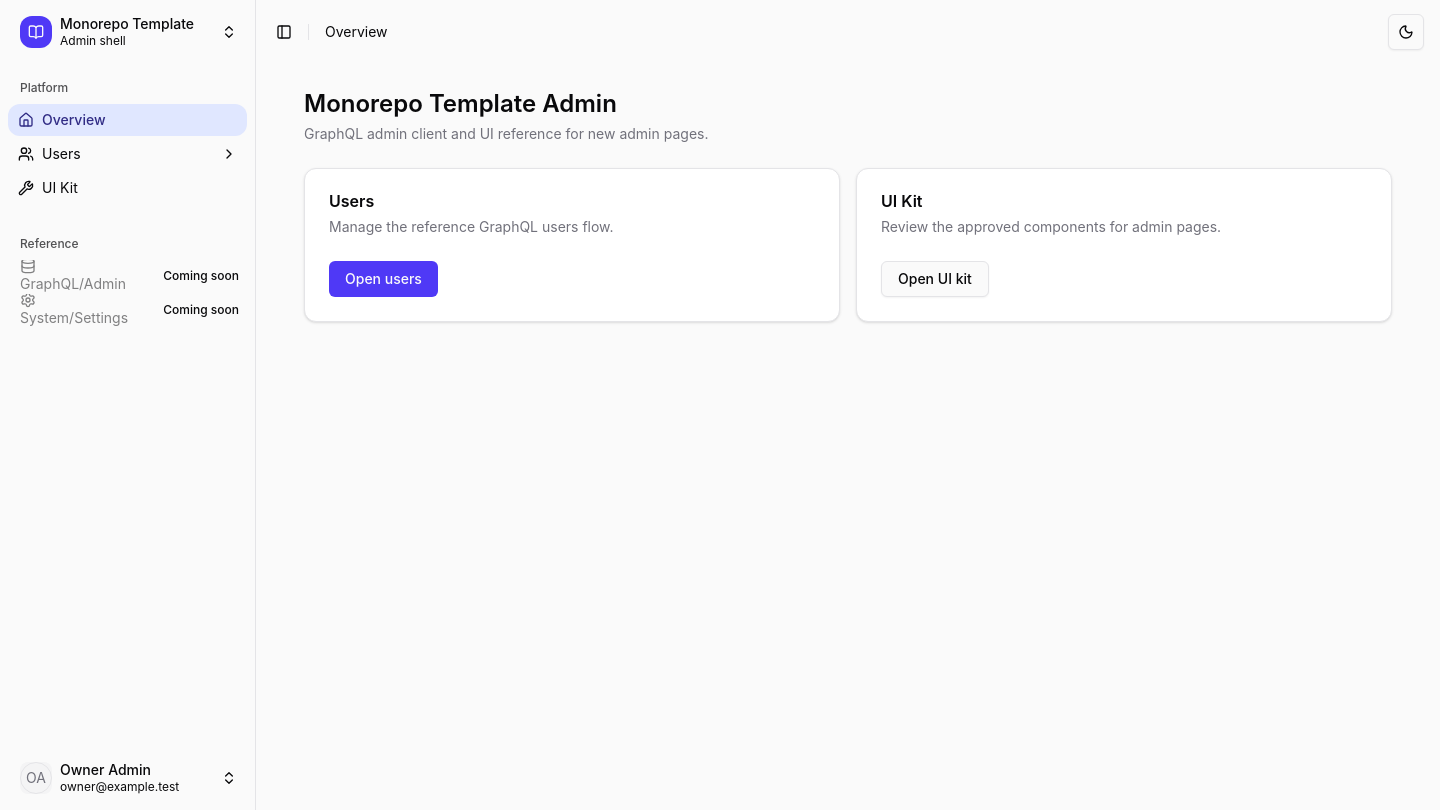
Test: web-admin routes › toggles and persists the admin theme from the app shell
Click the button named "Switch to dark theme" at (1406, 32), box 1388,14 -> 1424,50
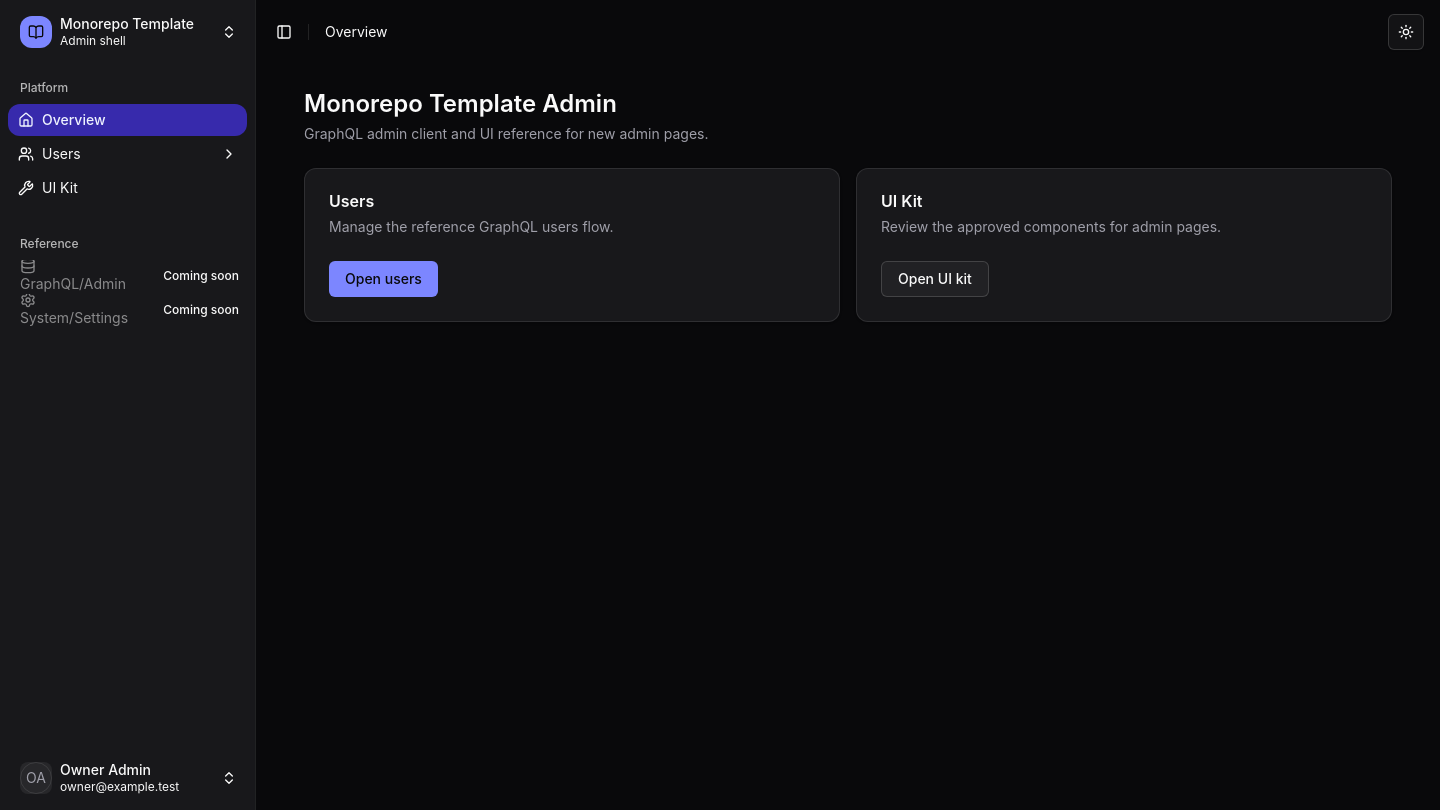
expect the button named "Switch to light theme" is shown: met
Click the button named "Switch to light theme" at (1406, 32), box 1388,14 -> 1424,50
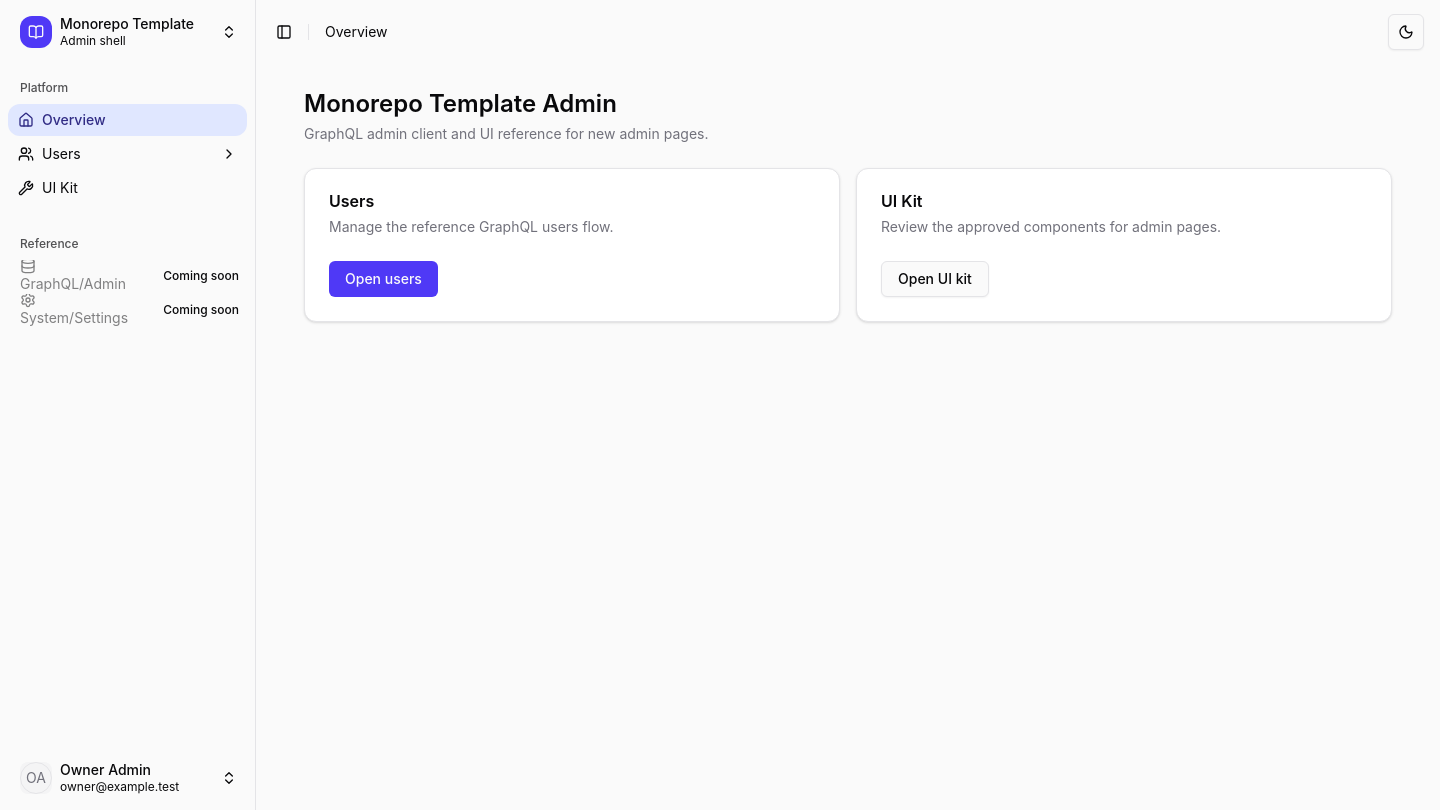
expect the button named "Switch to dark theme" is shown: met, box 1388,14 -> 1424,50
